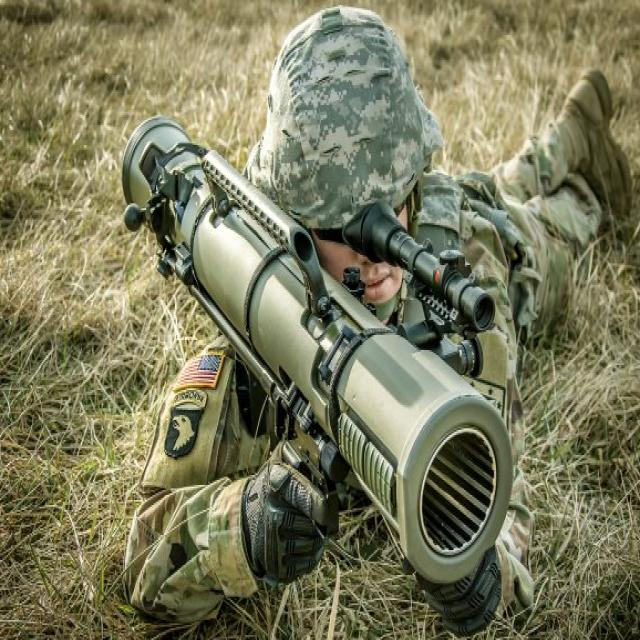Weapon: (125, 118, 512, 578)
